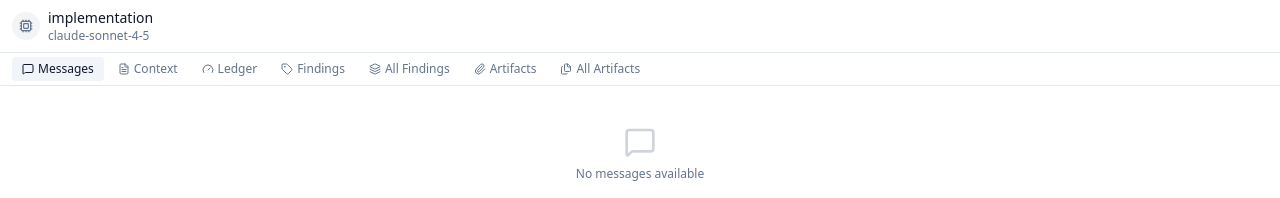
AgentLogDetail - Findings tab › clicking Findings tab shows agent findings filtered to selected agent
This screenshot has width=1280, height=198.
Step 1. Click the button "Findings" → (313, 69), box [271,57,355,81]
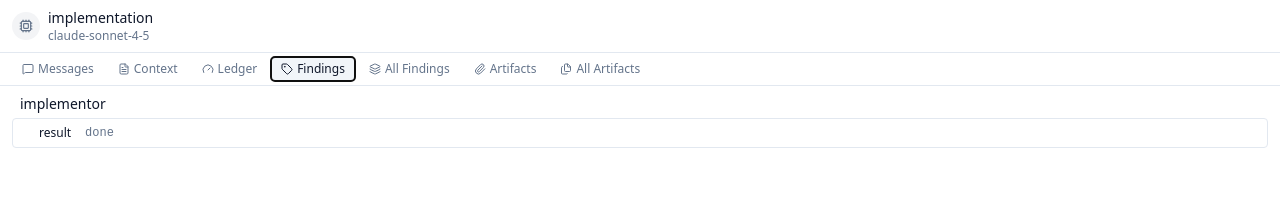
expect the heading "implementor" is shown: met, box [20,94,106,113]
expect the text "result" is shown: met, box [39,125,71,141]
